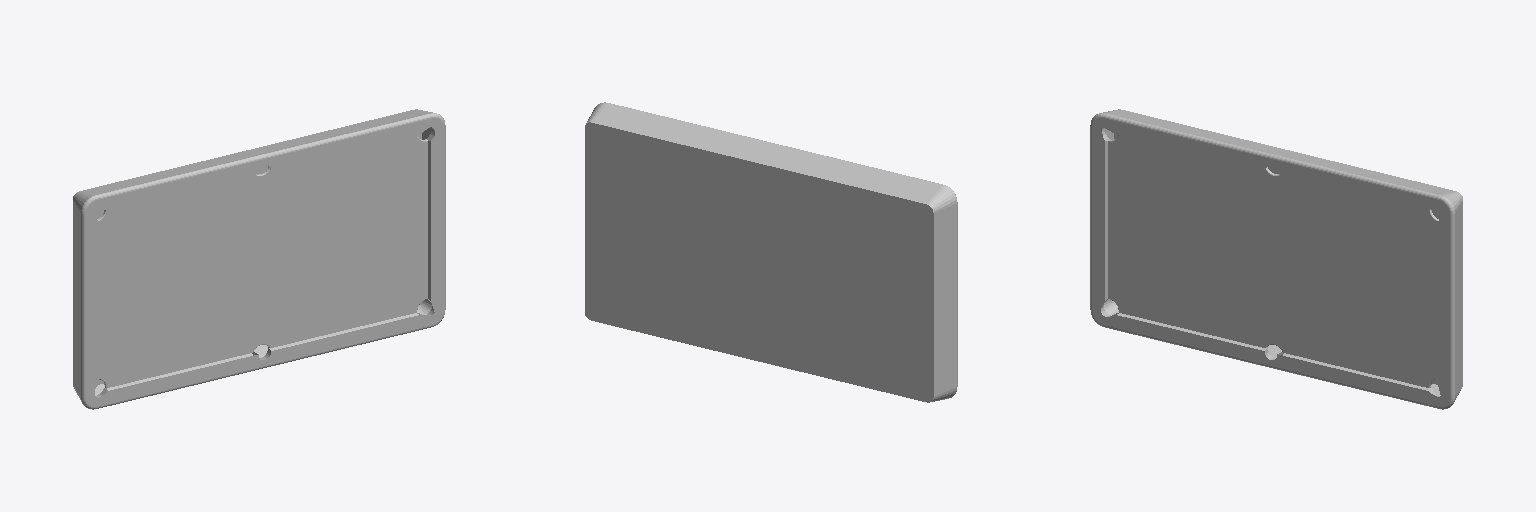
The model's file is old_merge_no_cushions.obj.
The picture shows the model from 3 angles: view 1: azimuth 30°, elevation 25°; view 2: azimuth 150°, elevation 25°; view 3: azimuth 330°, elevation 25°; orthographic projection.
Visible parts, largest first — view 1: slate, rails, casing; view 2: casing; view 3: slate, rails, casing.
Part boxes in pixels (bbox=[...]): slate: bbox=[97, 135, 427, 387]; rails: bbox=[86, 118, 443, 406]; casing: bbox=[73, 109, 445, 409]; casing: bbox=[585, 102, 957, 402]; slate: bbox=[1108, 135, 1438, 387]; rails: bbox=[1092, 118, 1449, 406]; casing: bbox=[1090, 109, 1462, 409].
Size of the model in its own units: 2.9 by 1.63 by 0.2463.